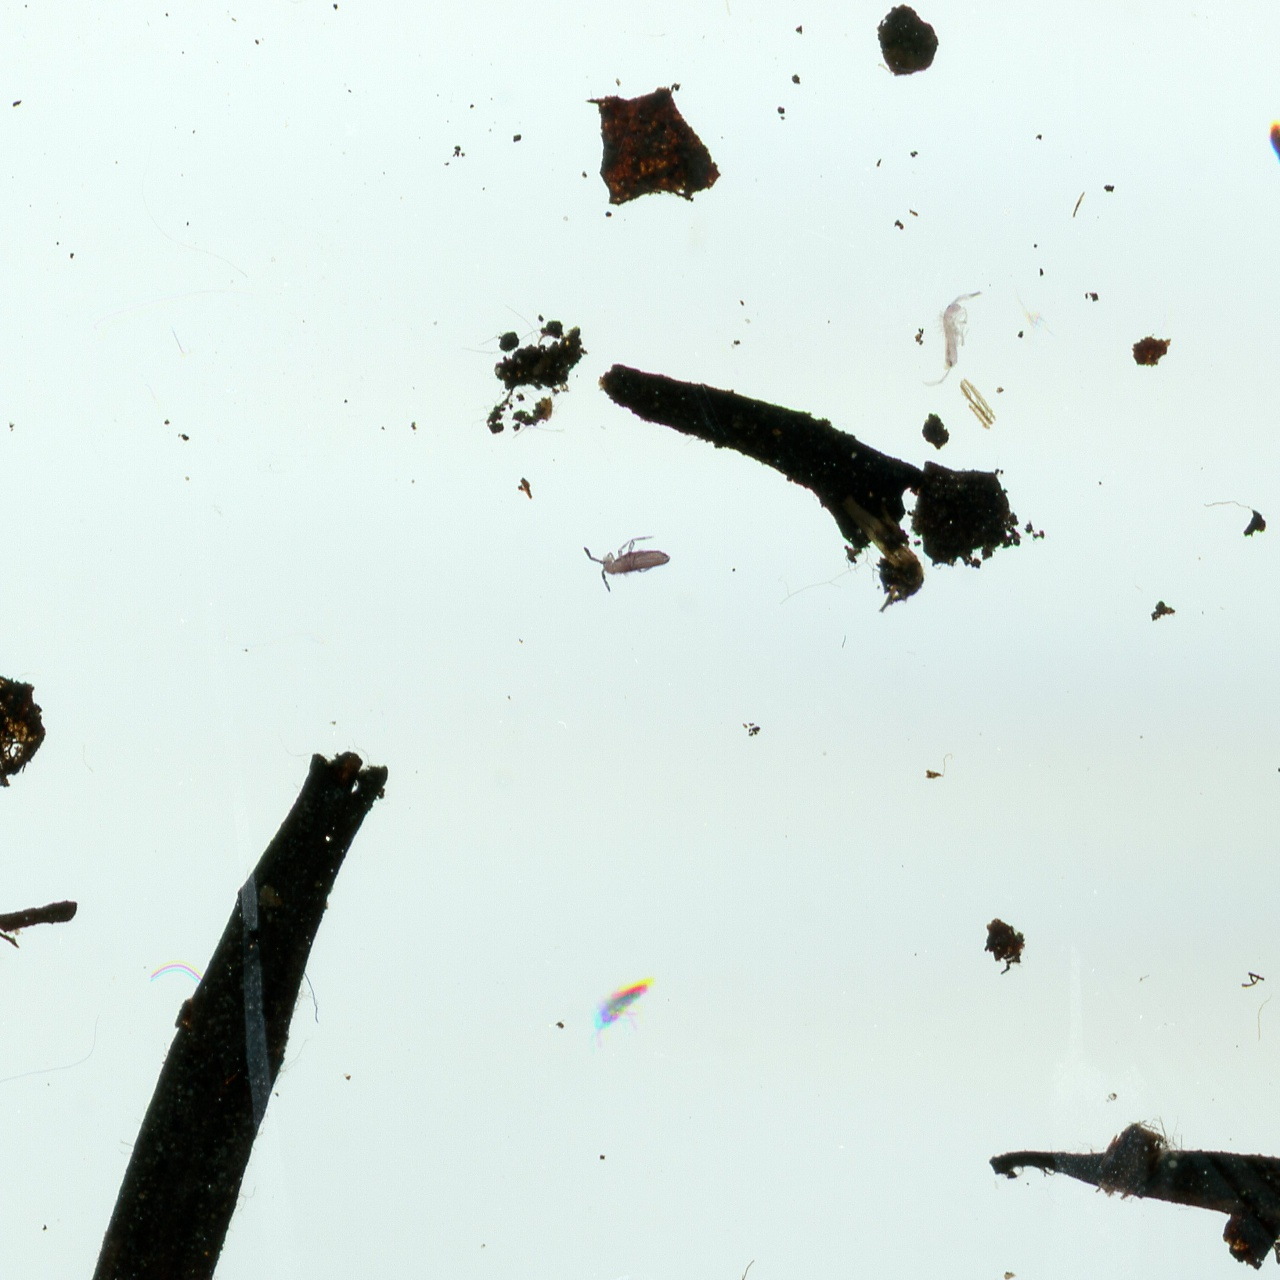arthropod: (919, 287, 981, 387), (581, 536, 669, 593), (595, 982, 651, 1048)
